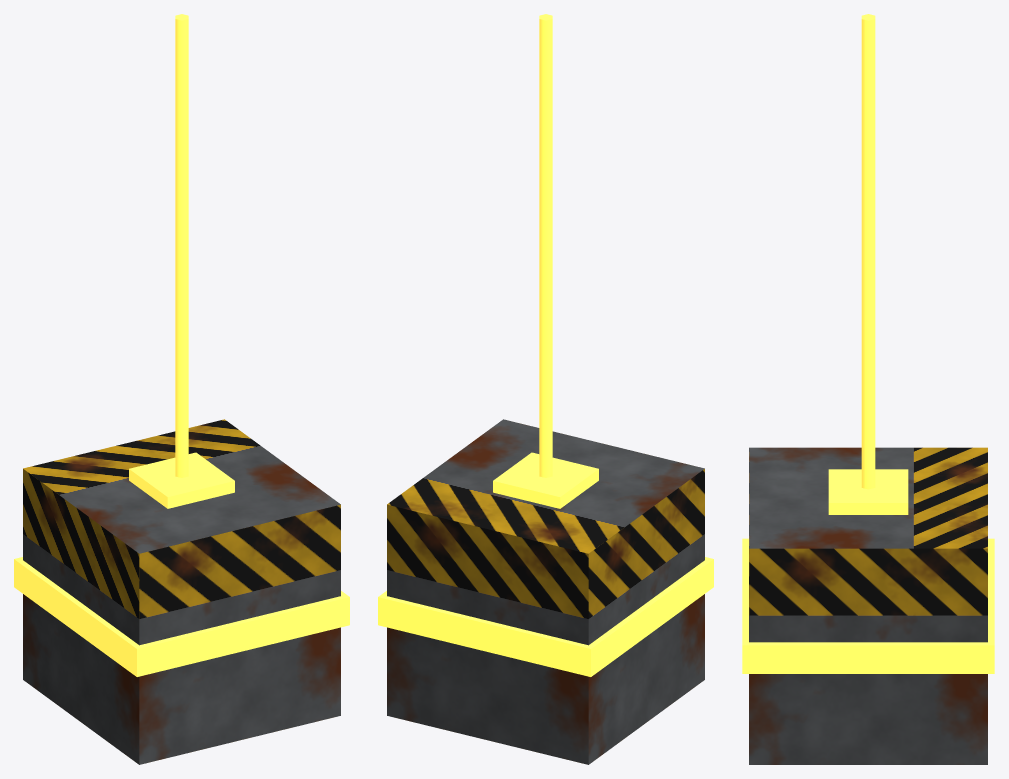
The model's file is loot_nitro.glb.
3 views of the same model, side by side, from view 1: azimuth 30°, elevation 25°; view 2: azimuth 150°, elevation 25°; view 3: azimuth 270°, elevation 25° (orthographic). The views are drawn at different scales.
Visible parts, largest first — view 1: Loot; view 2: Loot; view 3: Loot.
Boxes of the visible parts, left/top/right/bottom form: Loot: left=14, top=14, right=349, bottom=764; Loot: left=378, top=14, right=713, bottom=764; Loot: left=742, top=14, right=994, bottom=764.
Bounding box in the file's own units: 0.95 × 2.9 × 0.95.
2 materials, 1 textured.
